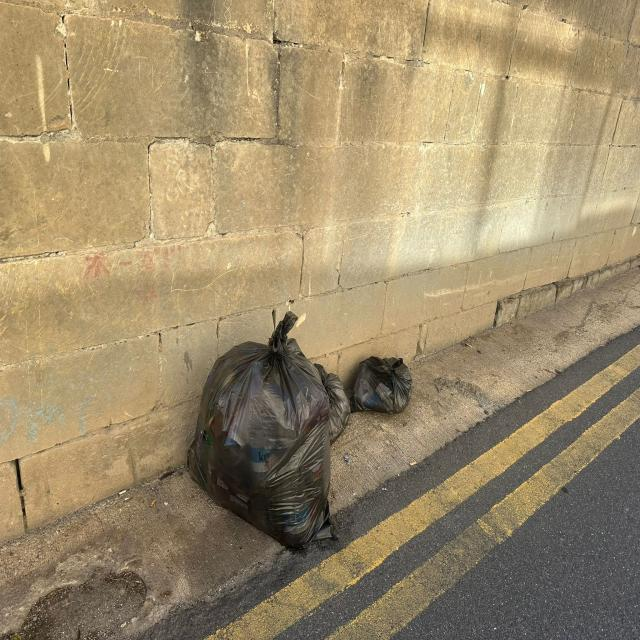black_bag: (185, 314, 352, 548), (349, 348, 419, 416)
